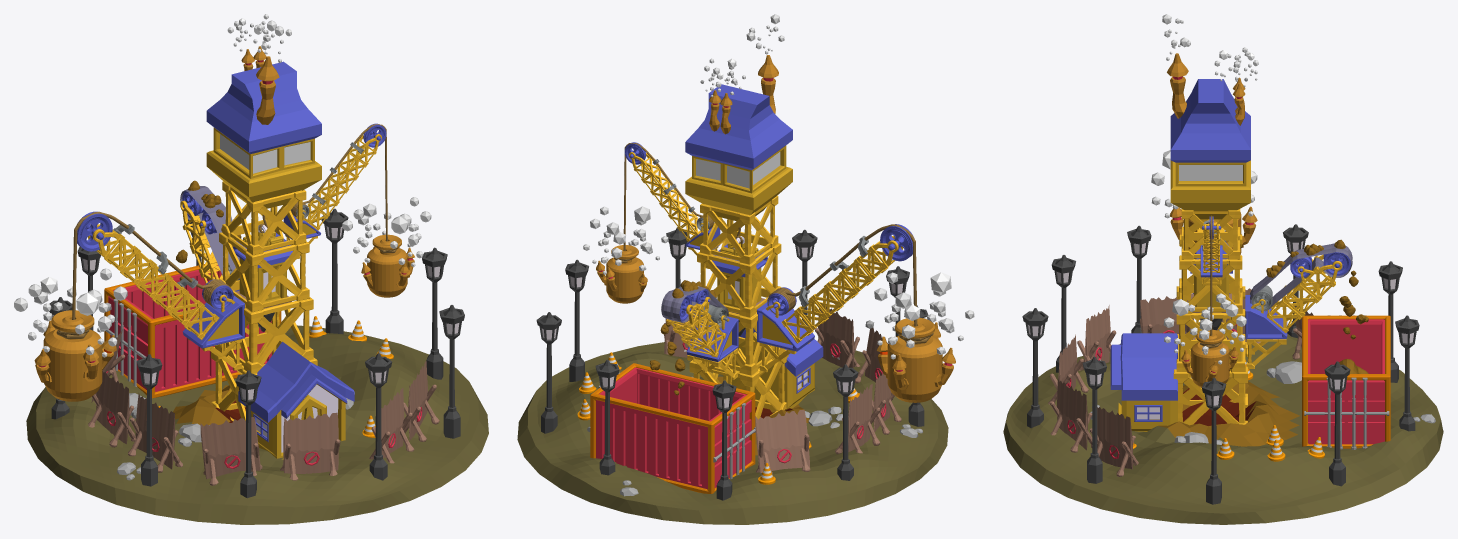
Rendered from Hlavni_vytah-_Filnal.fbx.
3 renders of one model, left to right at view 1: azimuth 30°, elevation 25°; view 2: azimuth 150°, elevation 25°; view 3: azimuth 270°, elevation 25°, orthographic. The views are drawn at different scales.
Visible parts, largest first — view 1: Circle.002, Cube.007, Cube.027, Cube.025, Cylinder.002, Cube.024, Cube.015, Cube.004, Cube.002, Cube.039, Cube.033, Cylinder.007 (+22 smaller); view 2: Circle.002, Cube.025, Cube.007, Cylinder.002, Cube.026, Cube.015, Cube.024, Cube.004, Cube.087, Cube.027, Cube.001, Cube.013 (+24 smaller); view 3: Circle.002, Cube.007, Cube.025, Cube.027, Cube.026, Cube.001, Cube.024, Cube.002, Cube.004, Cube.051, Cylinder.007, Cube.045 (+22 smaller).
Part boxes in pixels (x1,y1,x2,y2): Circle.002: [26, 325, 488, 524]; Cube.007: [206, 61, 321, 208]; Cube.027: [238, 341, 354, 459]; Cube.025: [108, 265, 272, 391]; Cylinder.002: [43, 310, 102, 401]; Cube.024: [219, 223, 309, 312]; Cube.015: [96, 230, 219, 339]; Cube.004: [222, 181, 306, 255]; Cube.002: [215, 286, 313, 373]; Cube.039: [283, 412, 338, 473]; Cube.033: [200, 417, 260, 478]; Cylinder.007: [367, 234, 407, 297]; Circle.002: [517, 342, 948, 524]; Cube.025: [596, 367, 751, 489]; Cube.007: [685, 84, 792, 220]; Cylinder.002: [887, 317, 942, 402]; Cube.026: [590, 363, 755, 493]; Cube.015: [781, 241, 895, 343]; Cube.024: [697, 235, 781, 317]; Cube.004: [700, 195, 778, 264]; Cube.087: [755, 409, 809, 473]; Cube.027: [723, 328, 823, 408]; Cube.001: [689, 344, 788, 419]; Cube.013: [634, 157, 701, 241]; Circle.002: [1003, 334, 1443, 524]; Cube.007: [1170, 79, 1250, 219]; Cube.025: [1308, 319, 1384, 444]; Cube.027: [1110, 333, 1178, 431]; Cube.026: [1302, 315, 1390, 448]; Cube.001: [1173, 342, 1247, 425]; Cube.024: [1179, 234, 1242, 313]; Cube.002: [1176, 286, 1245, 372]; Cube.004: [1181, 209, 1240, 259]; Cube.051: [1097, 407, 1132, 469]; Cylinder.007: [1191, 329, 1229, 387]; Cube.045: [1056, 378, 1087, 450].
Bounding box in the file's own units: 1721 × 1616 × 1570.
